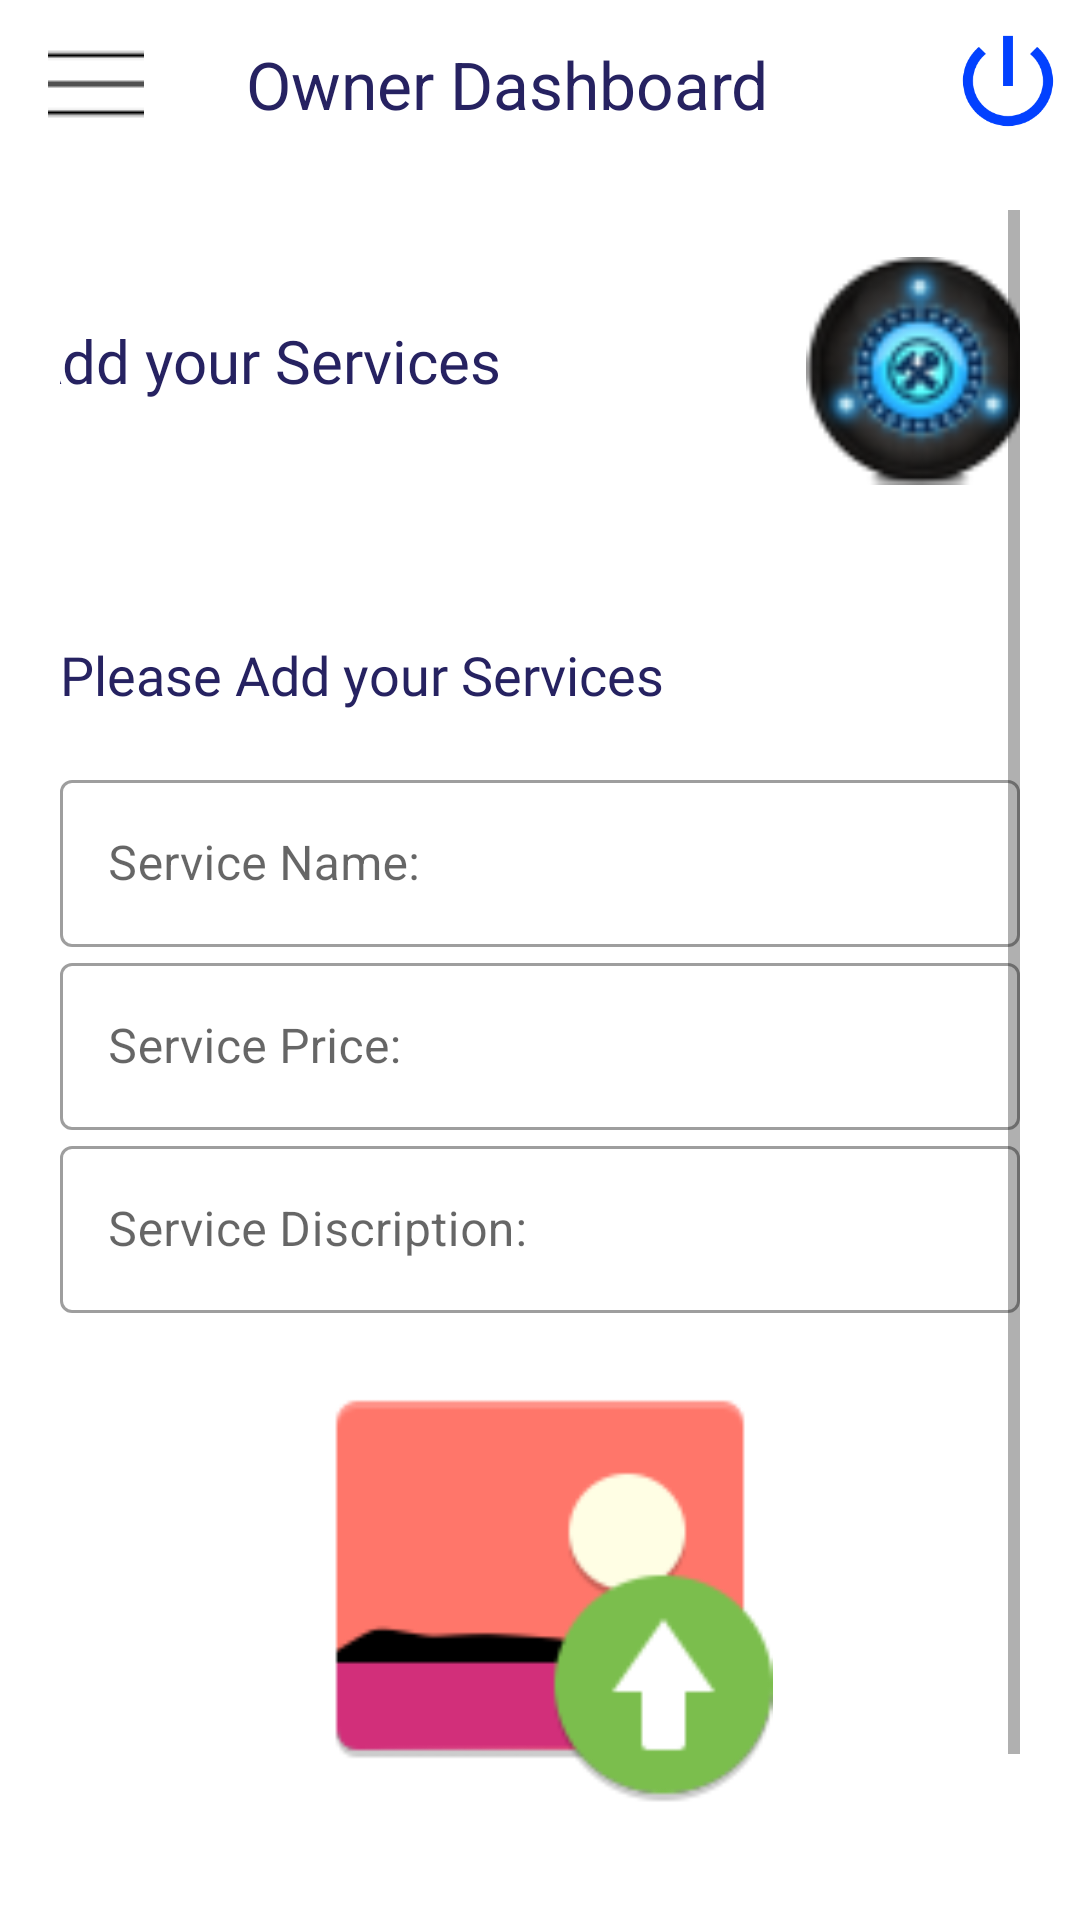

Icons on this 1080w x 1920h Android screen, each with the point to tap as [x,y]:
serviceicon: [913,370]
